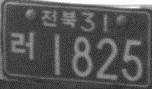1: (51, 31, 63, 78), (100, 11, 110, 35)
2: (95, 37, 118, 82)
3: (80, 9, 95, 33)
5: (120, 37, 144, 82)
8: (71, 35, 94, 78)
러: (9, 30, 35, 61)
전북_O: (39, 8, 78, 28)
